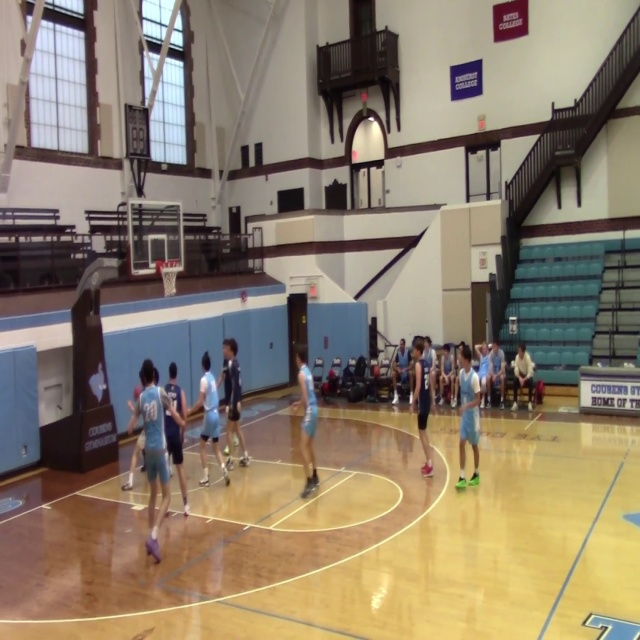Basketball: (223, 446, 230, 455)
